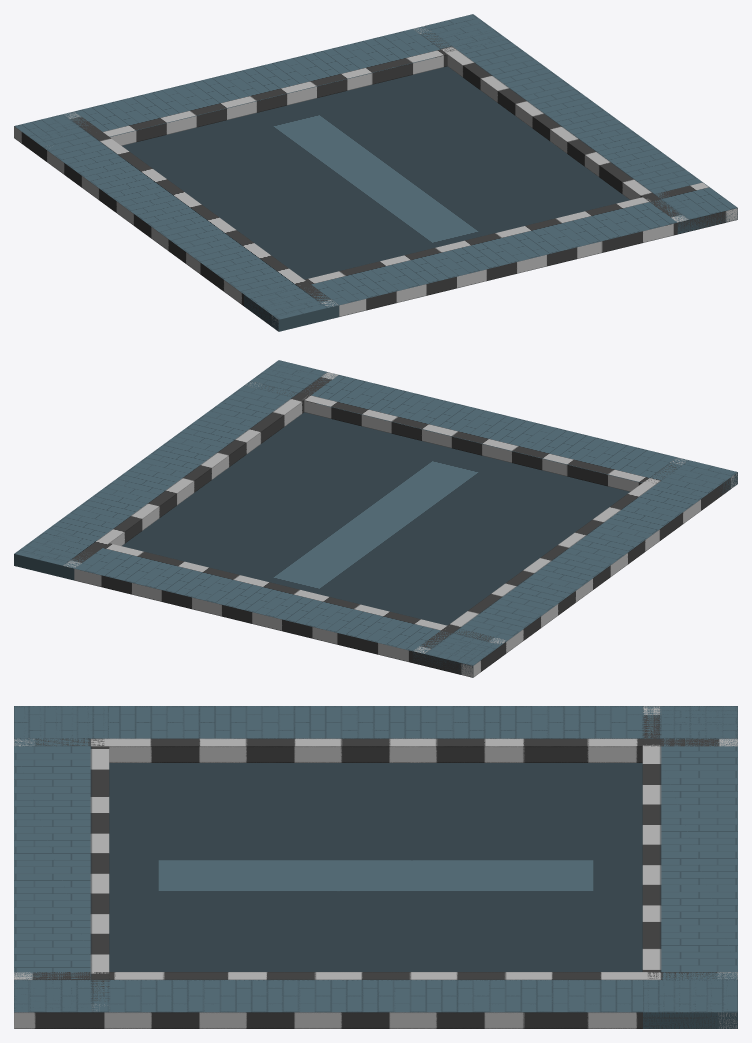
The model's file is roadamalgation.fbx.
The picture shows the model from 3 angles, top to bottom: view 1: azimuth 30°, elevation 25°; view 2: azimuth 150°, elevation 25°; view 3: azimuth 270°, elevation 25°; orthographic projection. The views are drawn at different scales.
Parts seen in each view (by area): view 1: plane, group, group2, mesh_1, mesh; view 2: plane, group, group2, mesh, mesh_1; view 3: plane, group, group2, mesh_1, mesh.
Boxes of the visible parts, x1,y1,x2,y2 form: plane: [122, 64, 637, 279]; group: [15, 14, 737, 234]; group2: [14, 112, 737, 331]; mesh_1: [14, 112, 338, 329]; mesh: [414, 14, 737, 222]; plane: [87, 404, 636, 650]; group: [14, 360, 506, 677]; group2: [245, 360, 737, 677]; mesh: [14, 361, 335, 568]; mesh_1: [413, 457, 737, 677]; plane: [109, 763, 642, 971]; group: [14, 706, 737, 1028]; group2: [14, 706, 737, 1011]; mesh_1: [14, 706, 737, 762]; mesh: [14, 972, 737, 1028].
Size of the model in its own units: 1001 by 25 by 1000.
Materials: 3 (3 with a texture image).
